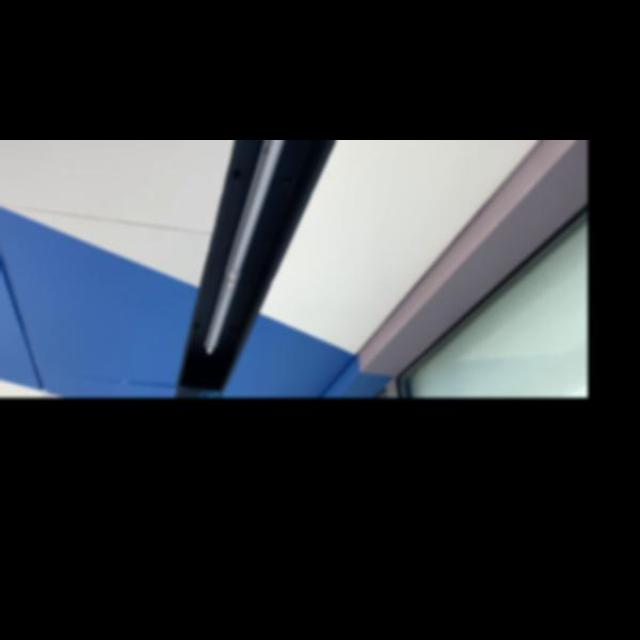Straight-Tube-Fluorescent-Lamp: (186, 140, 328, 360)
